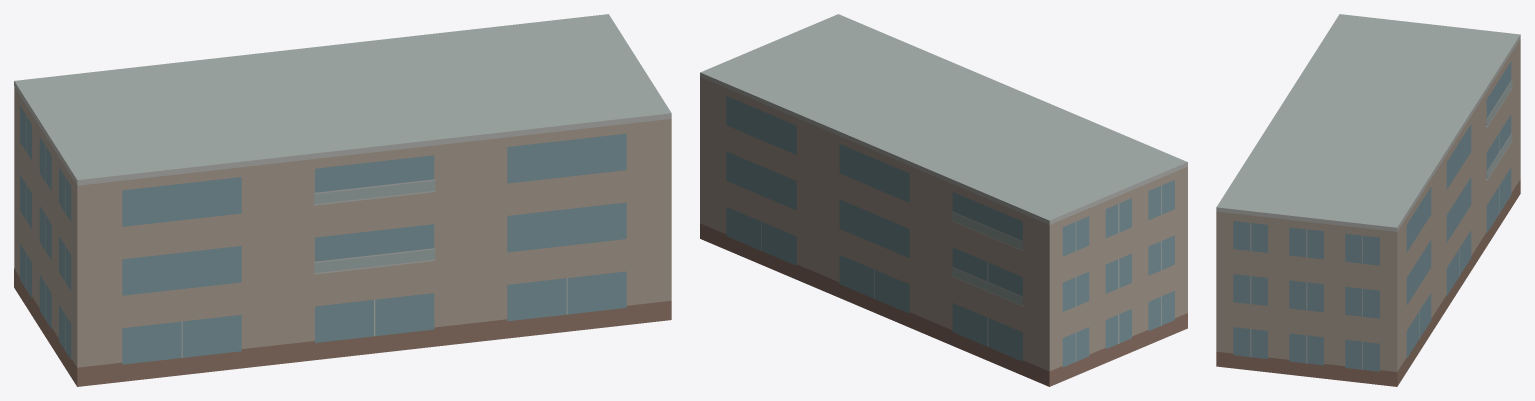
Rendered from survey-upis-32701879.glb.
3 views of the same model, side by side, from view 1: azimuth 30°, elevation 25°; view 2: azimuth 150°, elevation 25°; view 3: azimuth 270°, elevation 25° (orthographic). The views are drawn at different scales.
Parts seen in each view (by area): view 1: survey-upis-32701879.tmp; view 2: survey-upis-32701879.tmp; view 3: survey-upis-32701879.tmp.
Part boxes in pixels (<box>): survey-upis-32701879.tmp: <box>14,14,671,386</box>; survey-upis-32701879.tmp: <box>700,14,1187,386</box>; survey-upis-32701879.tmp: <box>1216,14,1520,386</box>.
Bounding box in the file's own units: 26.36 × 9.15 × 15.86.
